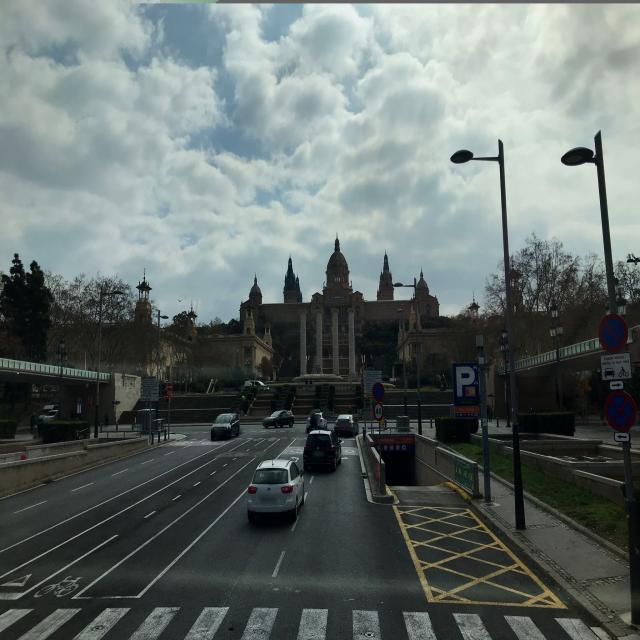car: (246, 458, 306, 523), (303, 428, 342, 472), (210, 412, 241, 440), (262, 409, 294, 429), (334, 413, 358, 438), (306, 411, 327, 432)
